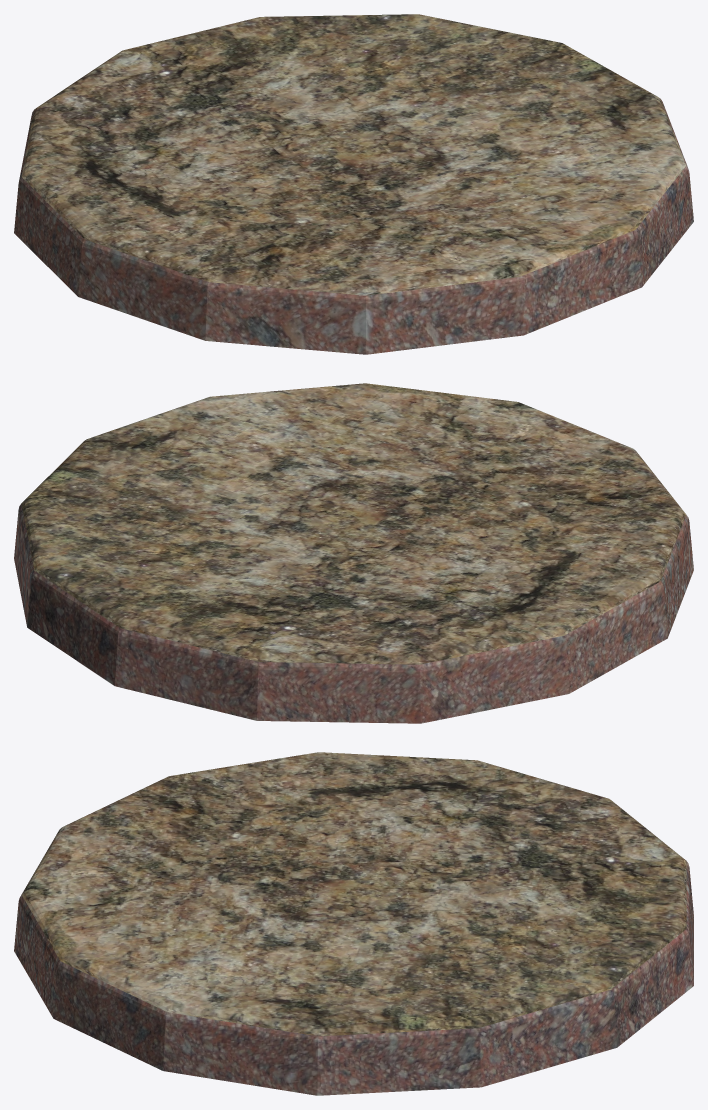
File: ConeBlocksBase-n13.fbx
The picture shows the model from 3 angles, top to bottom: view 1: azimuth 30°, elevation 25°; view 2: azimuth 150°, elevation 25°; view 3: azimuth 270°, elevation 25°; orthographic projection.
Parts seen in each view (by area): view 1: ConeBase; view 2: ConeBase; view 3: ConeBase.
Boxes of the visible parts, bbox=[...] form: ConeBase: bbox=[14, 14, 693, 354]; ConeBase: bbox=[14, 383, 693, 723]; ConeBase: bbox=[14, 752, 693, 1095].
Size of the model in its own units: 3375 by 330 by 3351.
